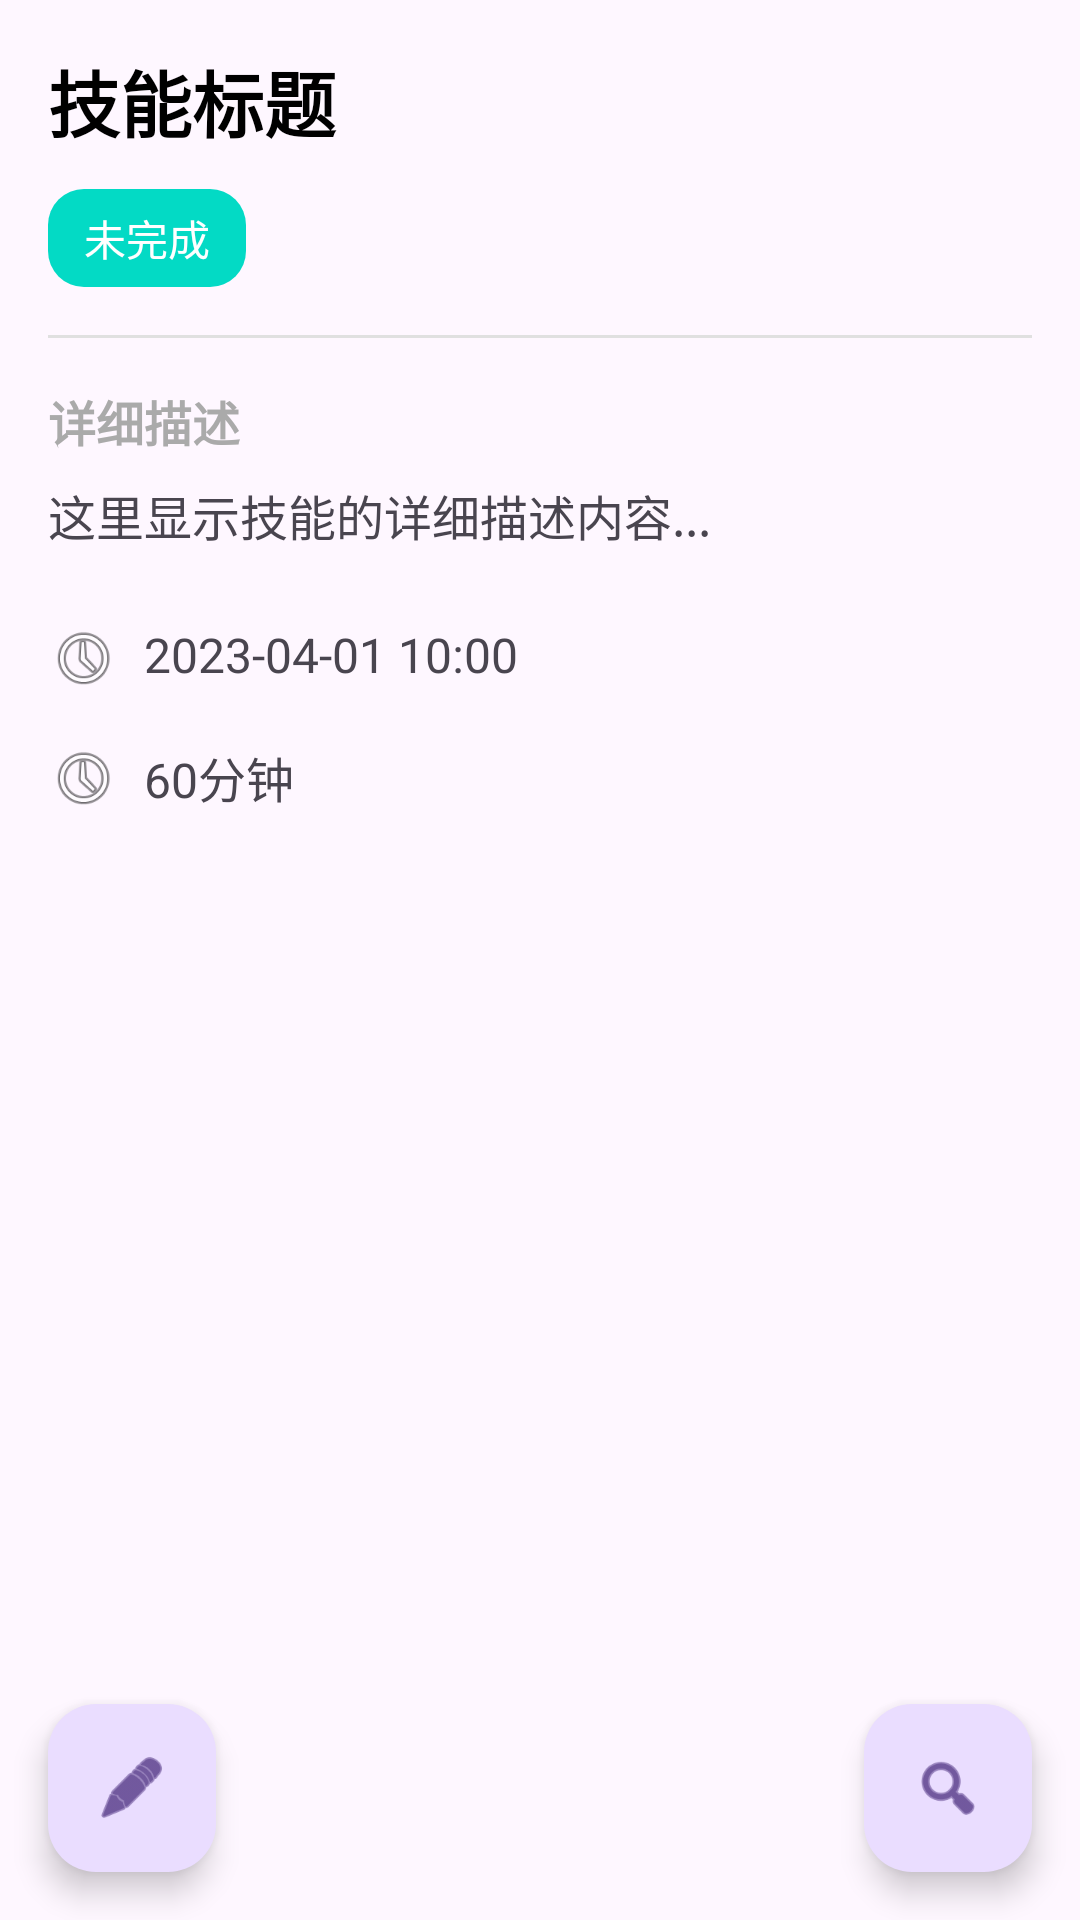

Icon click points for this 1080px×1920px phone screenshot, format (x=x, y=y):
edit: (x=132, y=1788)
recent history: (x=83, y=658), (x=83, y=778)
search: (x=948, y=1788)
